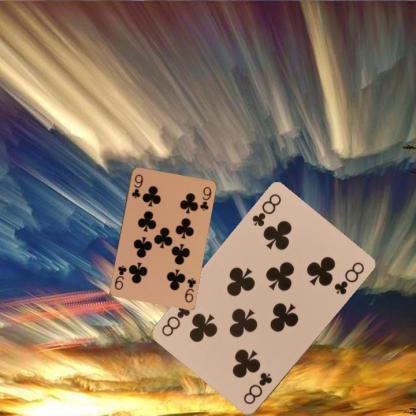8c: (249, 191, 283, 228), (240, 370, 274, 406)
9c: (182, 275, 197, 303), (129, 172, 144, 199)
